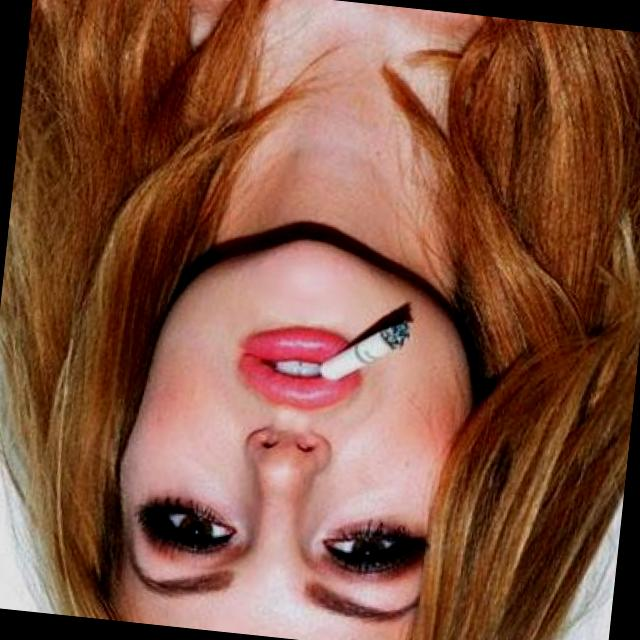cigarette: (312, 304, 408, 386)
